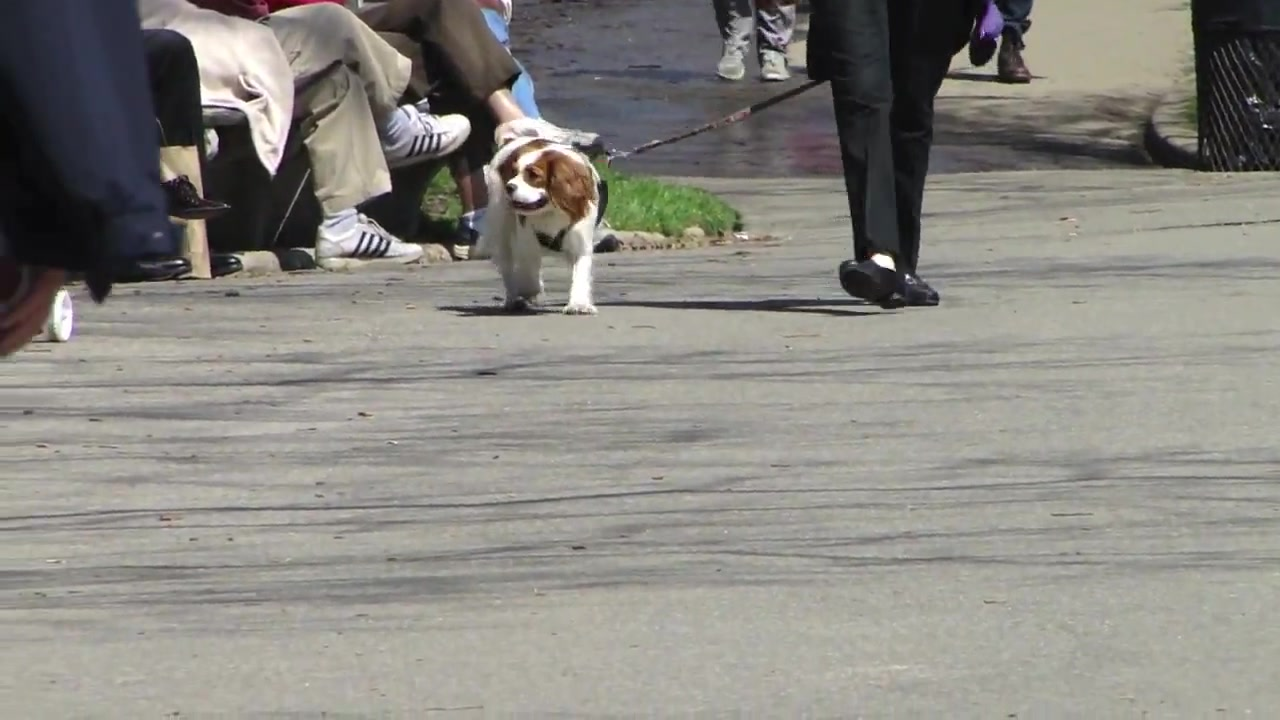dog: (495, 133, 603, 323)
